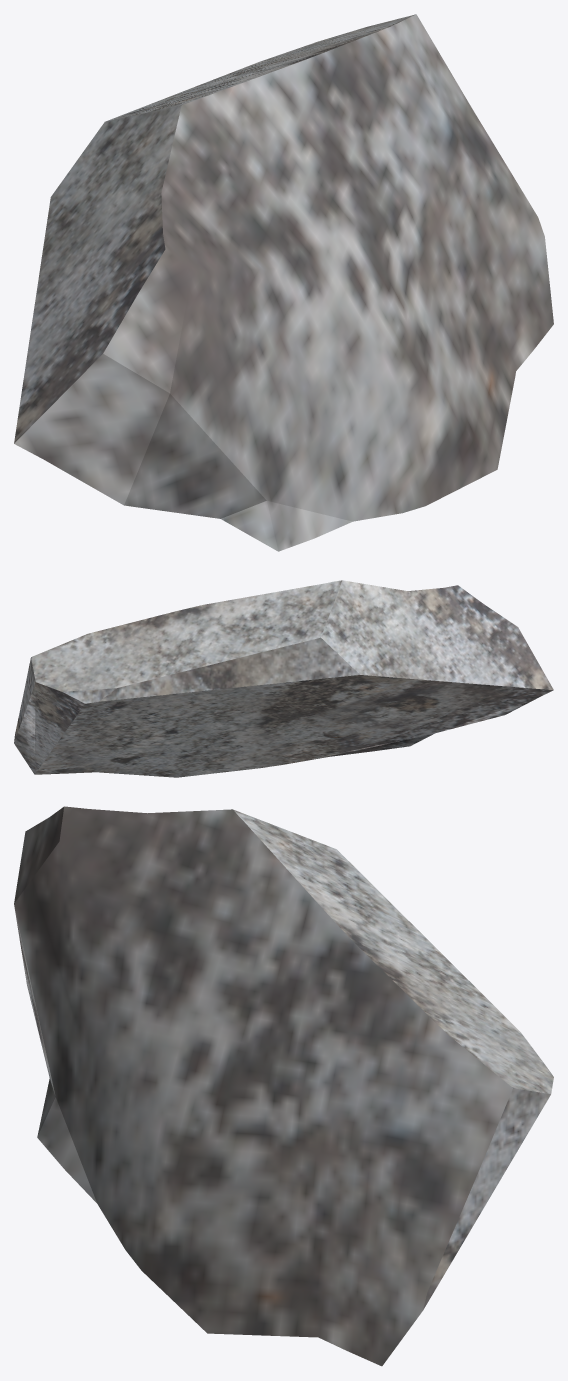
The model's file is Asteroid_Large_001_02_007_03_010.fbx.
The picture shows the model from 3 angles, top to bottom: view 1: azimuth 30°, elevation 25°; view 2: azimuth 150°, elevation 25°; view 3: azimuth 270°, elevation 25°; orthographic projection. The views are drawn at different scales.
Visible parts, largest first — view 1: Asteroid_Large_001_02_007_03_010; view 2: Asteroid_Large_001_02_007_03_010; view 3: Asteroid_Large_001_02_007_03_010.
Boxes of the visible parts, bbox=[...] form: Asteroid_Large_001_02_007_03_010: bbox=[14, 14, 553, 551]; Asteroid_Large_001_02_007_03_010: bbox=[14, 580, 553, 777]; Asteroid_Large_001_02_007_03_010: bbox=[14, 806, 553, 1366].
Bounding box in the file's own units: 12.57 × 6.99 × 8.77.
